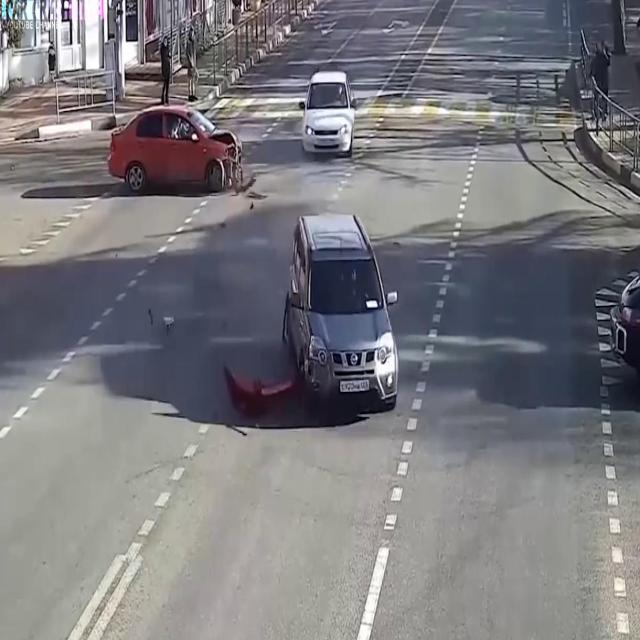accident: (215, 196, 404, 442)
